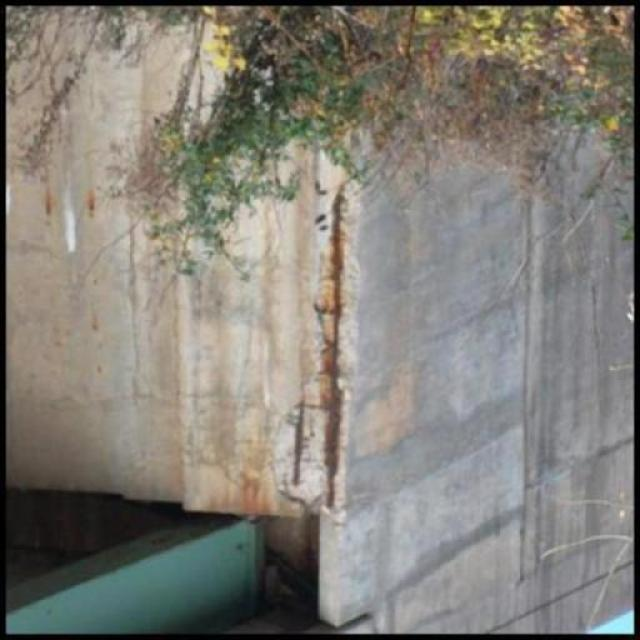D0w0: (270, 171, 365, 536)
